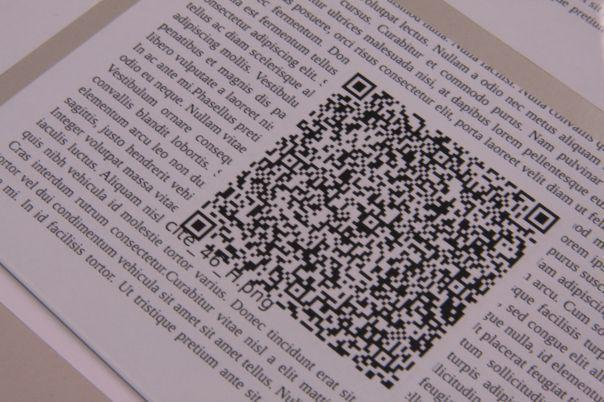qr_code: (181, 68, 564, 394)
